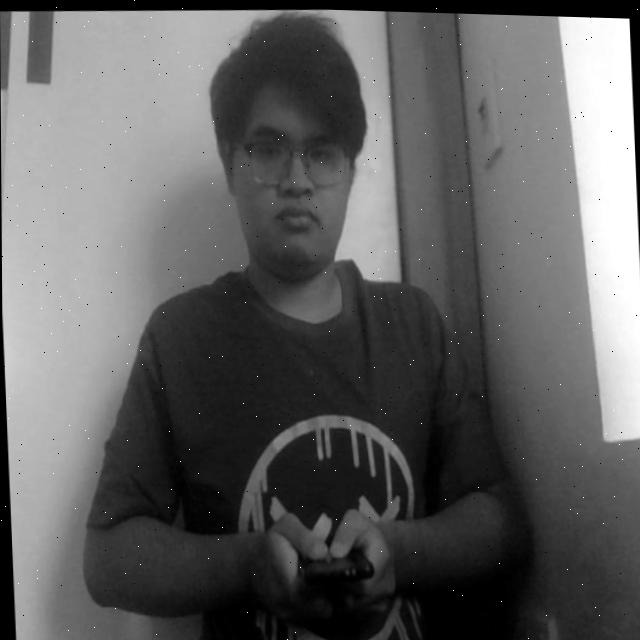phone: (278, 504, 380, 608)
